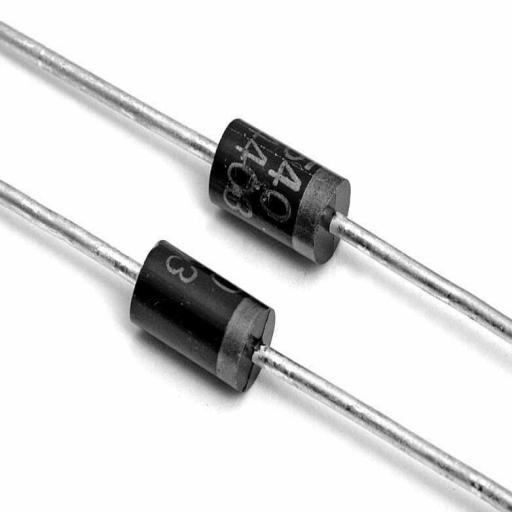DIODE: (148, 96, 412, 271), (125, 209, 317, 447)
